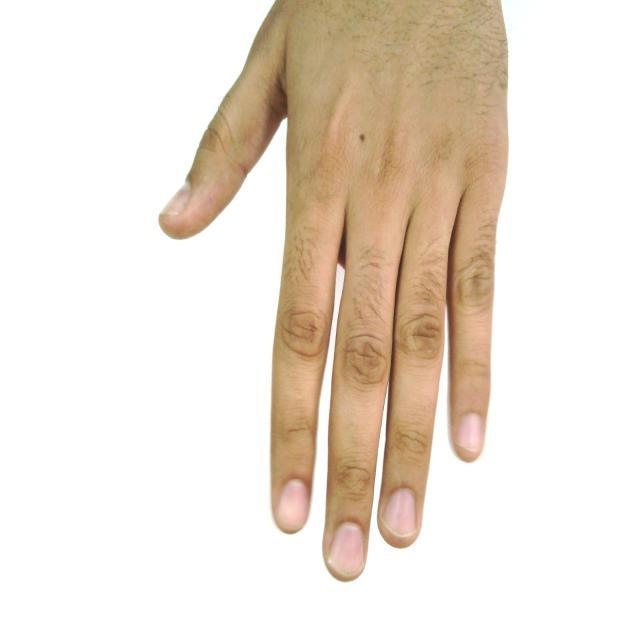Fingernail: (328, 523, 363, 578), (382, 488, 416, 537), (278, 481, 308, 529), (457, 414, 483, 452), (161, 183, 190, 217)
